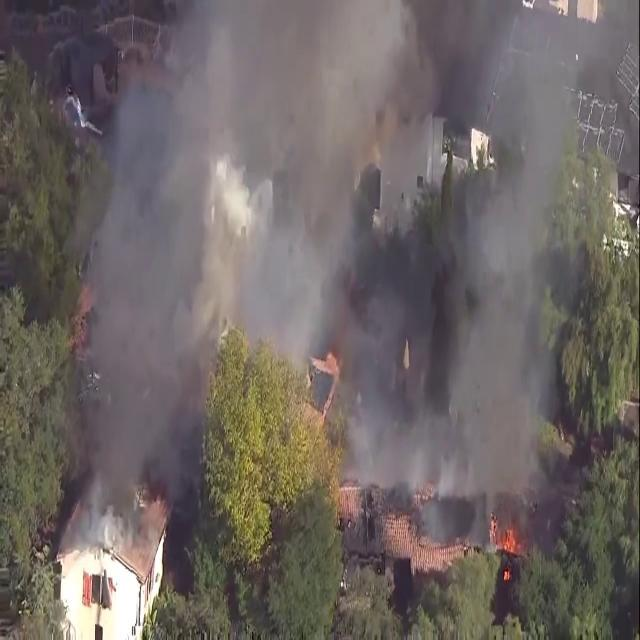Smoke: (56, 0, 604, 513)
